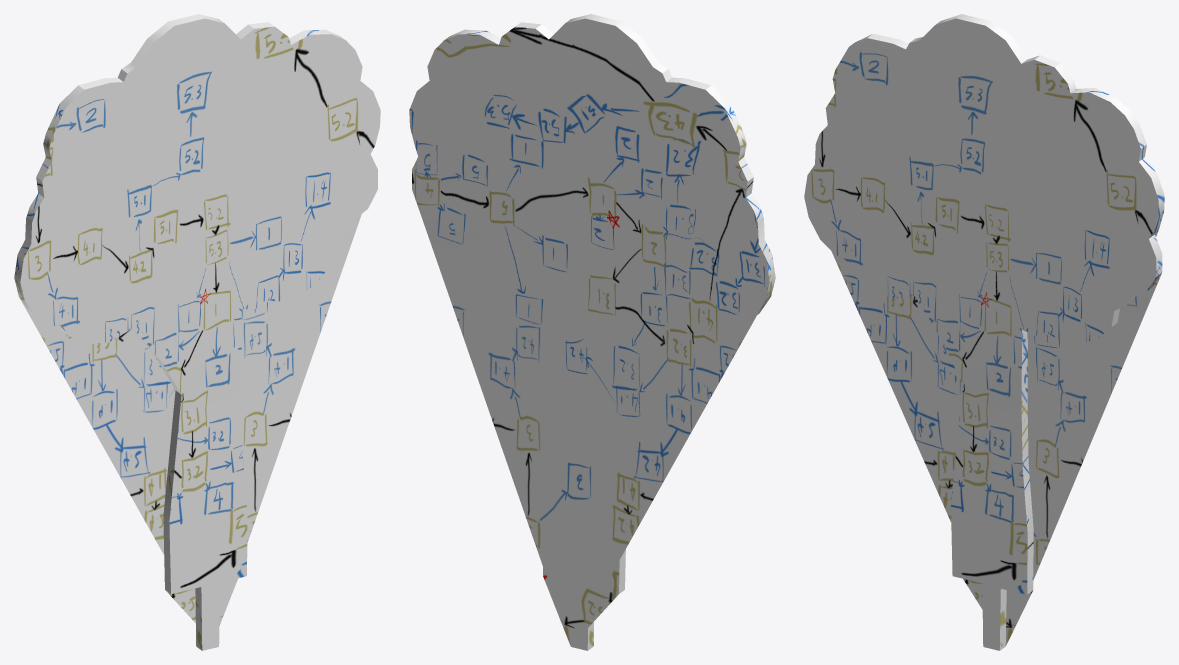
File: mhy_tree.fbx
The picture shows the model from 3 angles, left to right: view 1: azimuth 30°, elevation 25°; view 2: azimuth 150°, elevation 25°; view 3: azimuth 330°, elevation 25°; orthographic projection.
Parts seen in each view (by area): view 1: pCube1; view 2: pCube1; view 3: pCube1.
Boxes of the visible parts, bbox=[...] form: pCube1: bbox=[14, 14, 380, 650]; pCube1: bbox=[409, 14, 775, 650]; pCube1: bbox=[804, 14, 1164, 650].
Size of the model in its own units: 171 by 287 by 5.
